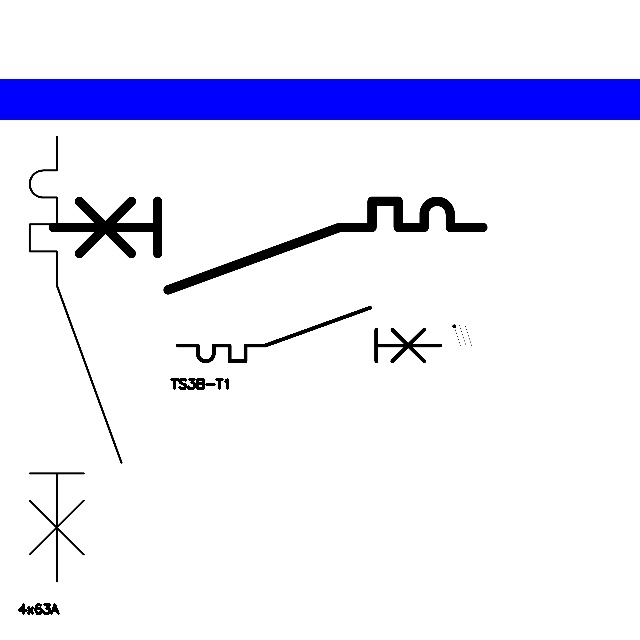interruptor_termomagnetico: (18, 125, 132, 593), (42, 190, 494, 300), (171, 301, 446, 368)
